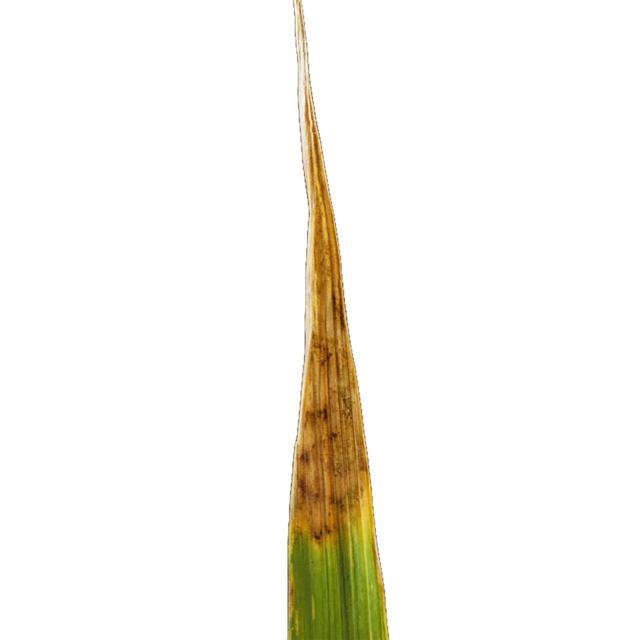Leaf scald: (208, 0, 468, 640)
